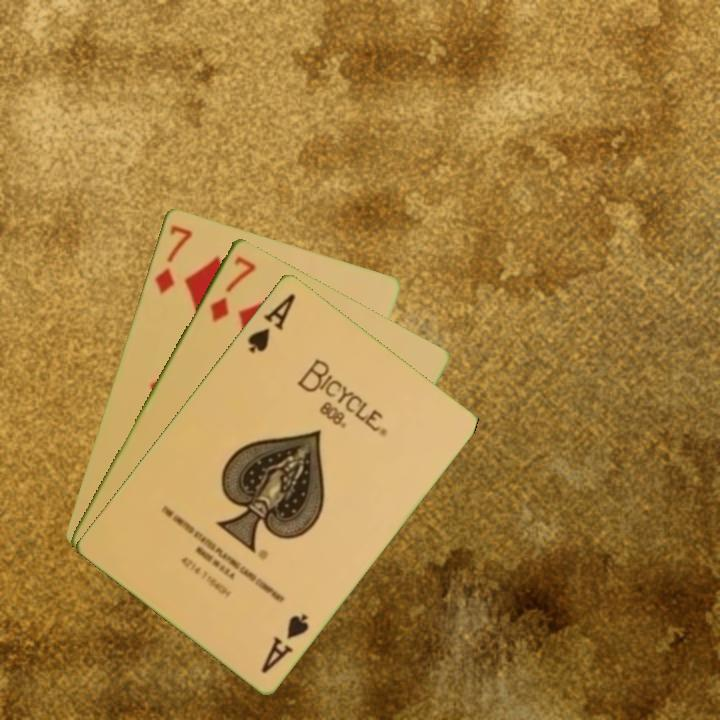7d: (206, 252, 259, 324), (150, 221, 195, 297)
As: (257, 609, 312, 676), (244, 289, 298, 356)
